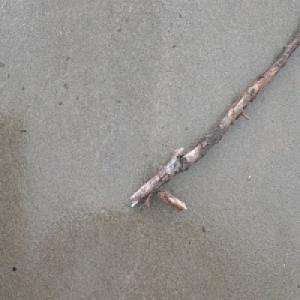Wood: (128, 32, 300, 211)
